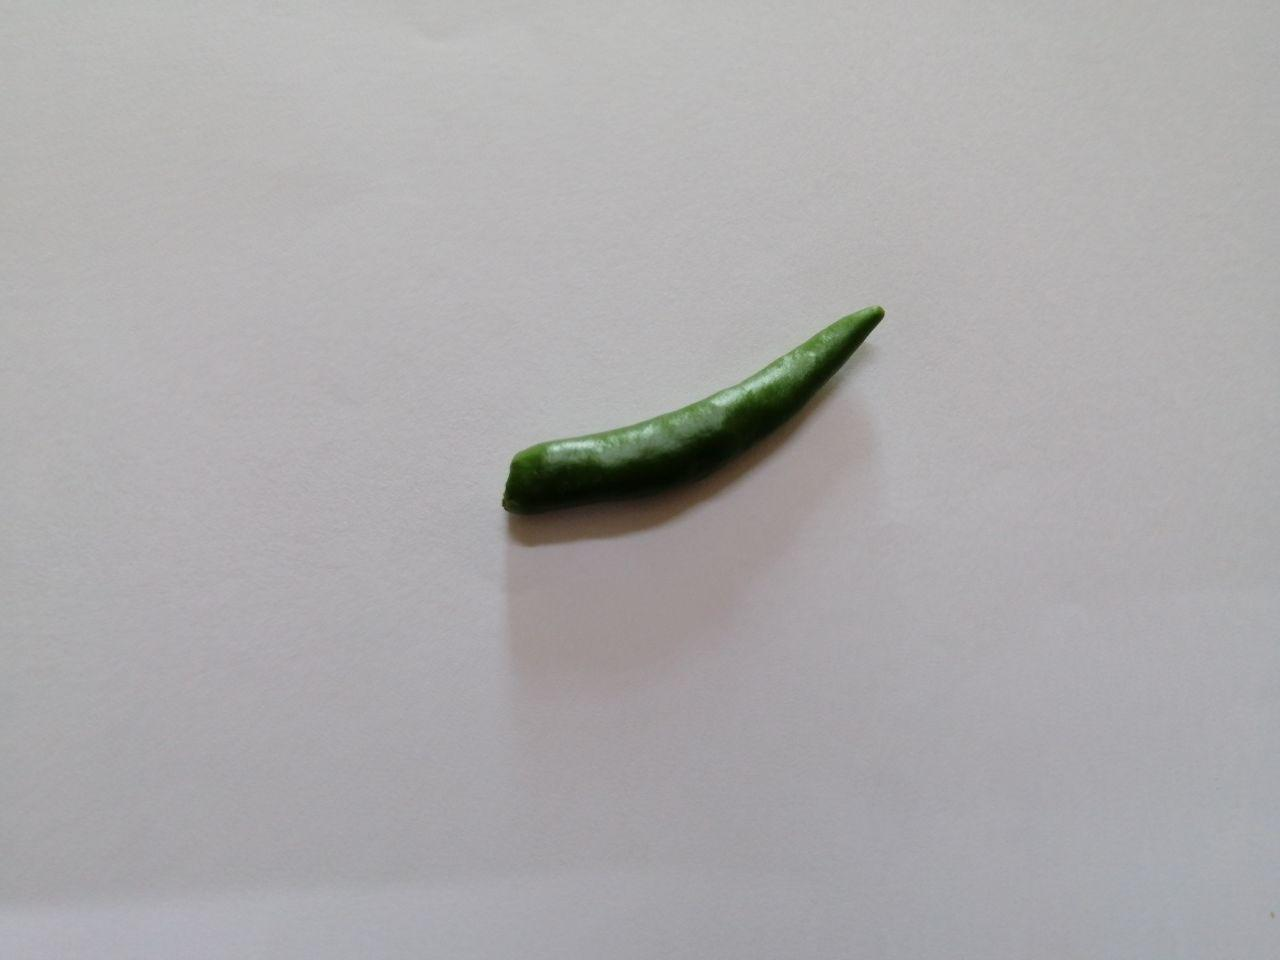lada hijau: (475, 292, 903, 536)
